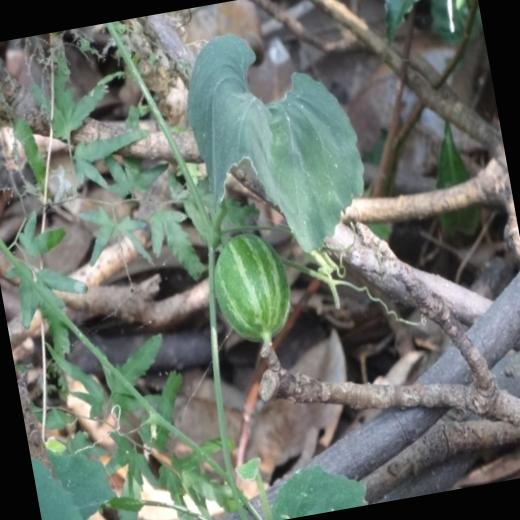Cherry: (204, 228, 298, 354)
